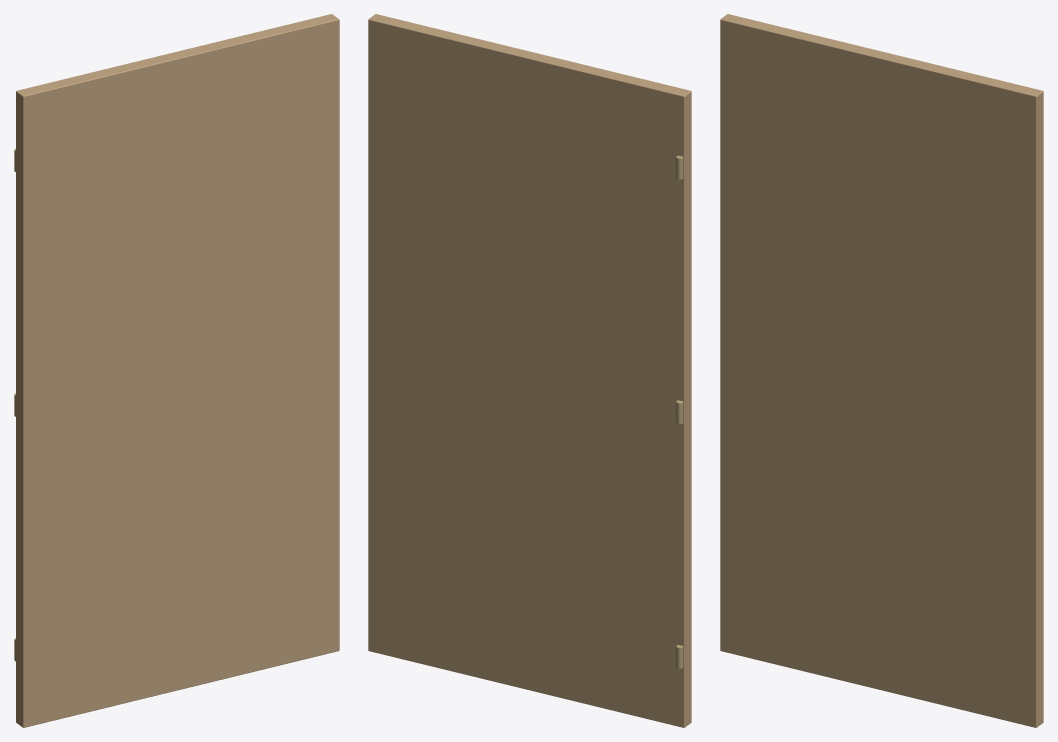
The model's file is door-detail.glb.
3 views of the same model, side by side, from view 1: azimuth 30°, elevation 25°; view 2: azimuth 150°, elevation 25°; view 3: azimuth 330°, elevation 25° (orthographic).
Visible parts, largest first — view 1: Veneered door; view 2: Veneered door; view 3: Veneered door.
Part boxes in pixels (box(x1,y1,x2,y2)): Veneered door: box(16, 14, 339, 727); Veneered door: box(368, 14, 691, 727); Veneered door: box(720, 14, 1043, 727).
Size of the model in its own units: 1.3 by 2.48 by 0.0755.
